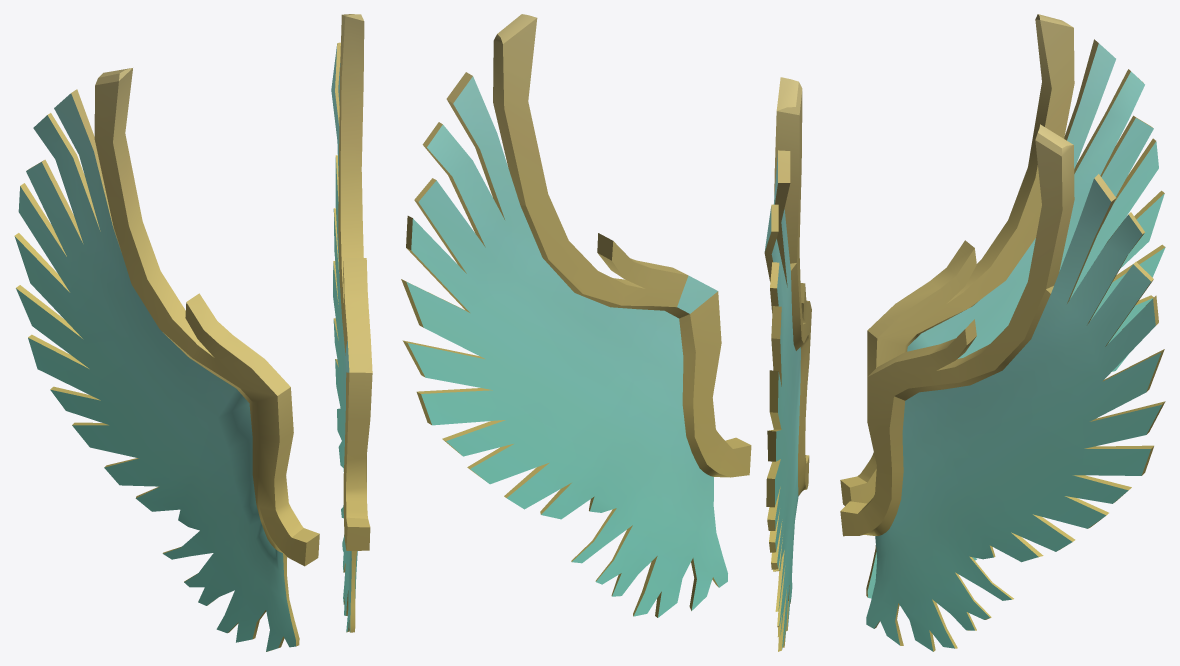
Rendered from Alas.fbx.
3 views of the same model, side by side, from view 1: azimuth 30°, elevation 25°; view 2: azimuth 150°, elevation 25°; view 3: azimuth 270°, elevation 25° (orthographic). The views are drawn at different scales.
Visible parts, largest first — view 1: AlasHuitaca; view 2: AlasHuitaca; view 3: AlasHuitaca.
Part boxes in pixels (x1,y1,x2,y2): AlasHuitaca: (14,14,372,651); AlasHuitaca: (401,14,811,651); AlasHuitaca: (840,14,1165,651).
Bounding box in the file's own units: 228 × 365 × 194.
